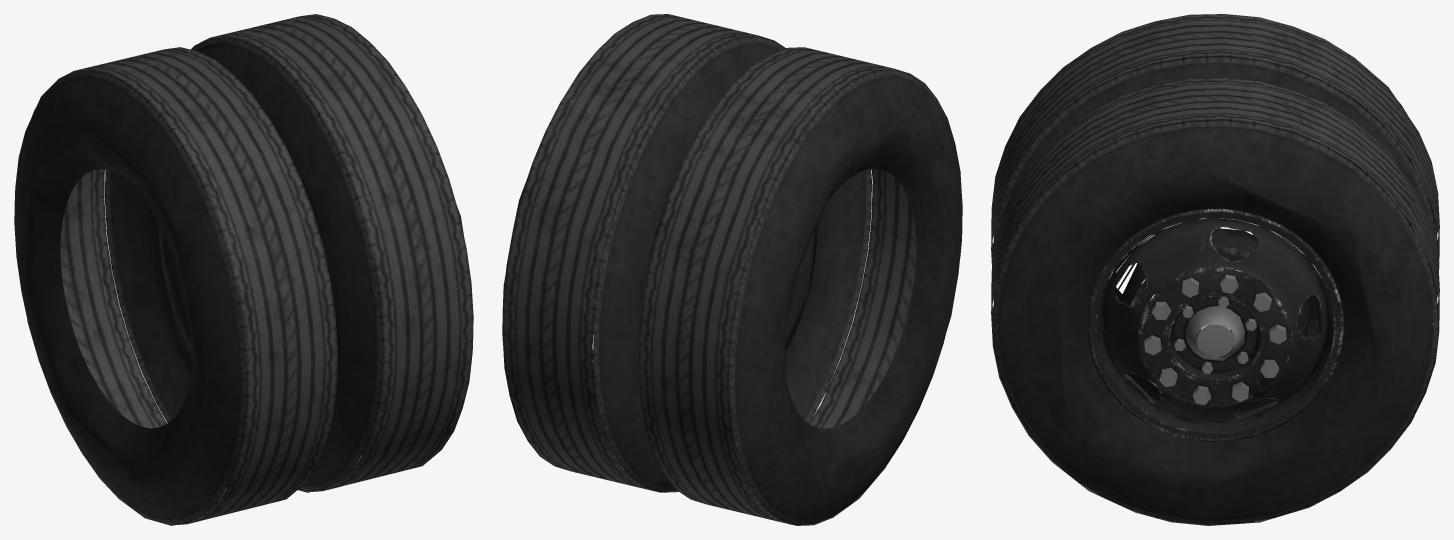
File: tm_wheel_a0_R.glb
3 renders of one model, left to right at view 1: azimuth 30°, elevation 25°; view 2: azimuth 150°, elevation 25°; view 3: azimuth 270°, elevation 25°, orthographic. The views are drawn at different scales.
Visible parts, largest first — view 1: wheel_(0, 1); view 2: wheel_(0, 1); view 3: wheel_(0, 1).
Part boxes in pixels (box(x1,y1,x2,y2)): wheel_(0, 1): box(14, 14, 473, 525); wheel_(0, 1): box(502, 14, 962, 525); wheel_(0, 1): box(991, 14, 1439, 525).
Bounding box in the file's own units: 63.95 × 90.33 × 90.33.
Materials: 1 (1 with a texture image).
